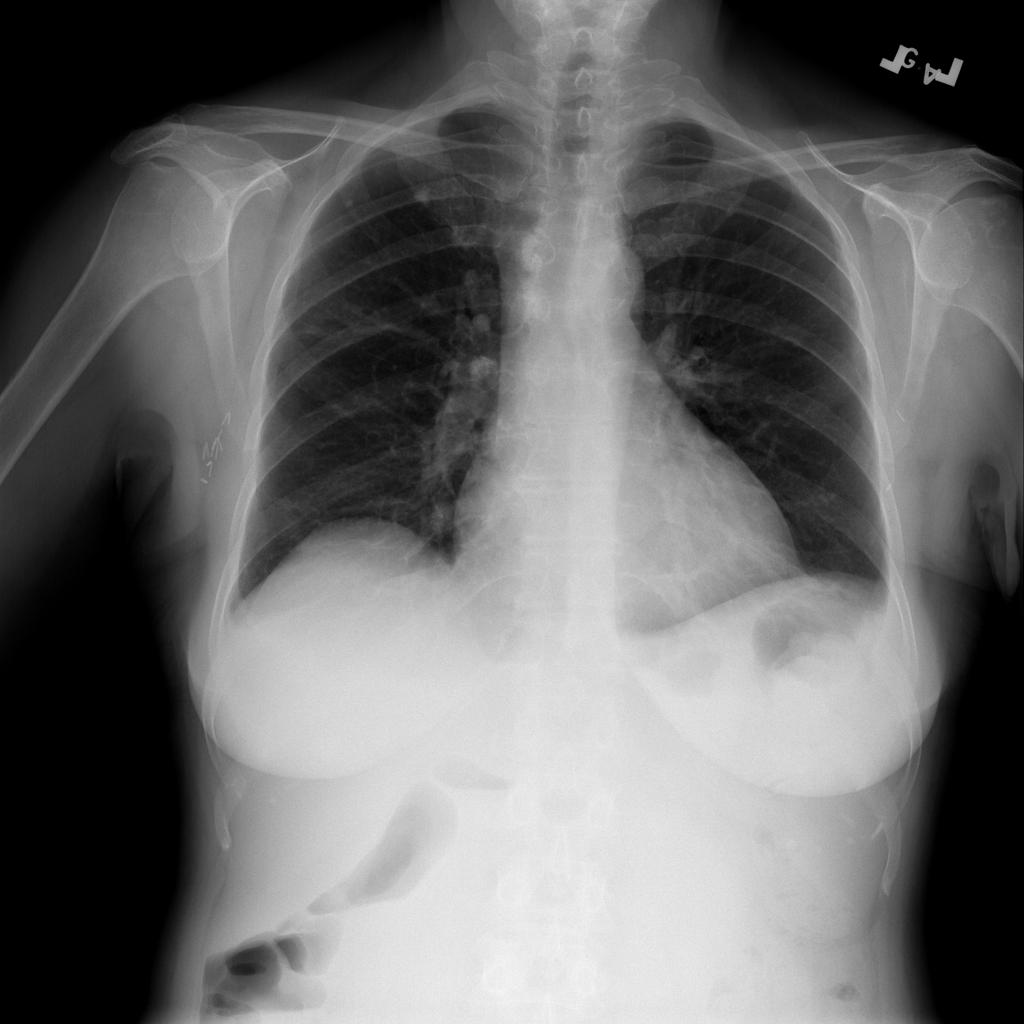nodule: (402, 177, 440, 214), (333, 190, 366, 216)
